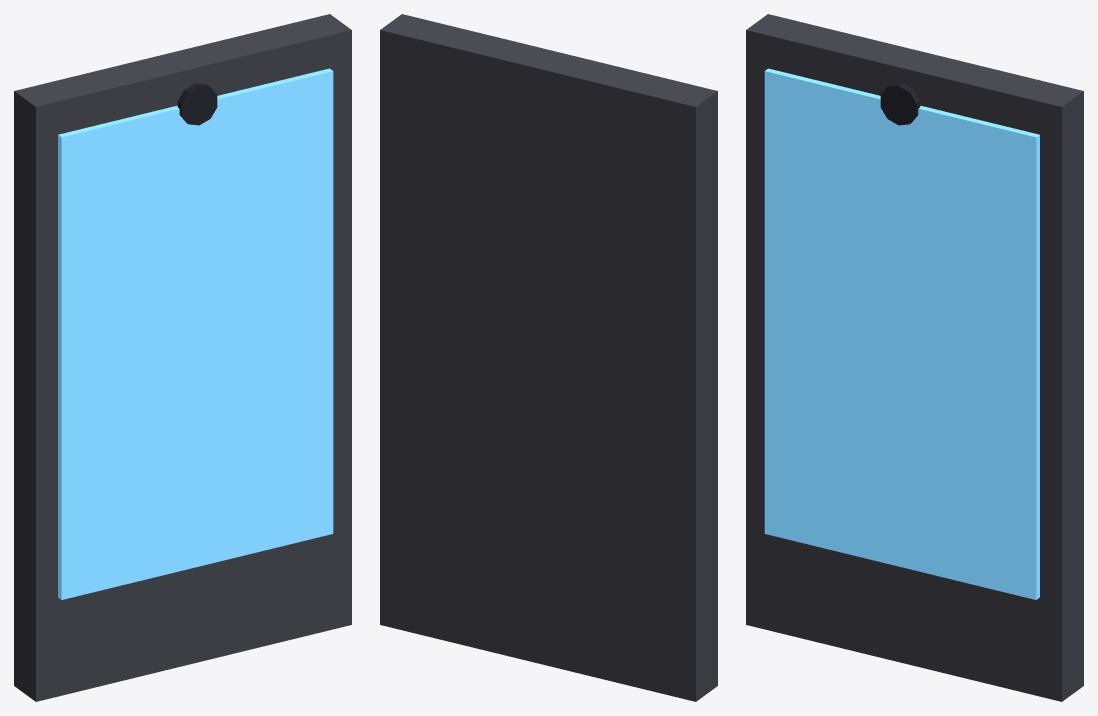
The model's file is prop_phone.glb.
3 views of the same model, side by side, from view 1: azimuth 30°, elevation 25°; view 2: azimuth 150°, elevation 25°; view 3: azimuth 330°, elevation 25° (orthographic).
Visible parts, largest first — view 1: Screen, Body, Camera; view 2: Body; view 3: Screen, Body, Camera.
Boxes of the visible parts, x1,y1,x2,y2 form: Screen: (58, 68, 333, 599); Body: (14, 14, 351, 701); Camera: (177, 83, 217, 125); Body: (380, 14, 717, 701); Screen: (764, 68, 1039, 599); Body: (746, 14, 1083, 701); Camera: (880, 83, 920, 125).
Size of the model in its own units: 0.1 by 0.18 by 0.015.
